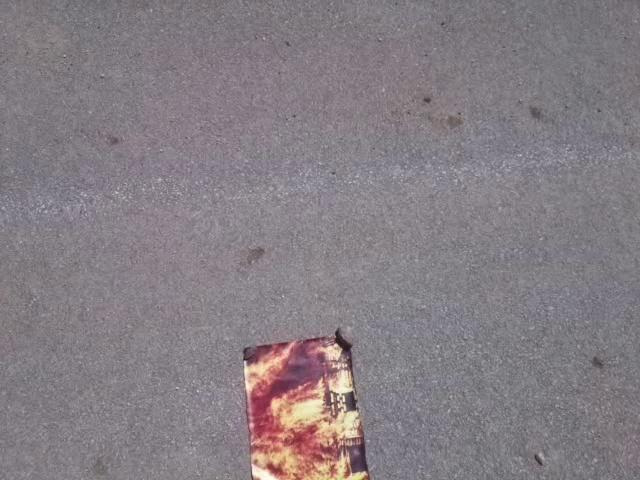fire-poster: (240, 324, 374, 479)
